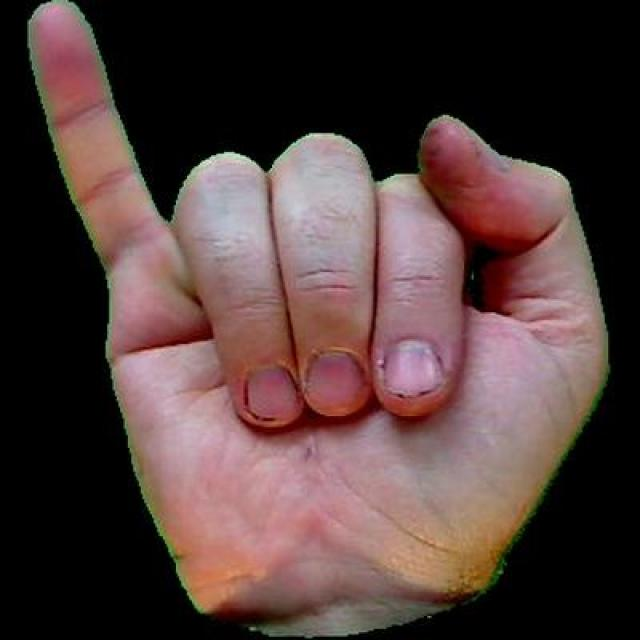i: (11, 0, 613, 637)
